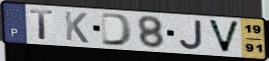8: (137, 14, 167, 50)
D: (100, 12, 135, 48)
J: (178, 19, 205, 51)
K: (63, 10, 90, 44)
T: (28, 9, 56, 42)
V: (206, 18, 242, 55)
